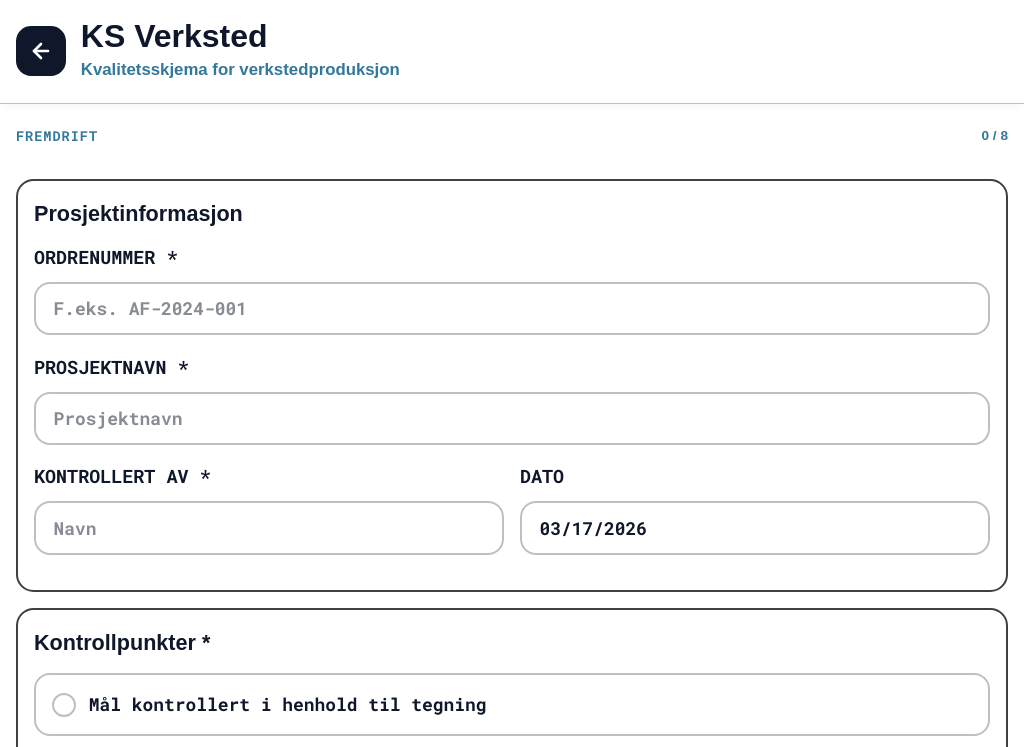
it: KSVerkstedScreen › updates progress when a checkpoint is selected
Expected: the text "0 / 8" is shown, [982, 126, 1008, 147]
Click the button "Mål kontrollert i henhold til tegning" at (288, 704), box [34, 673, 990, 736]
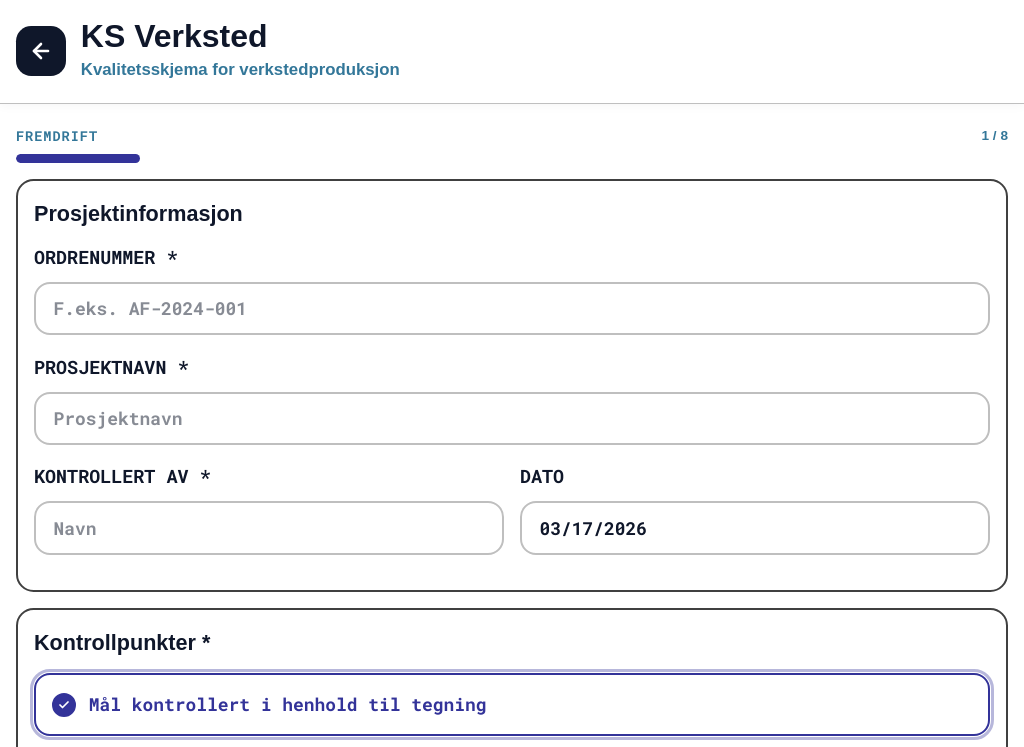
Now the text "1 / 8" is shown, box [982, 126, 1008, 147]
